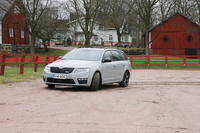car: (42, 46, 133, 90)
